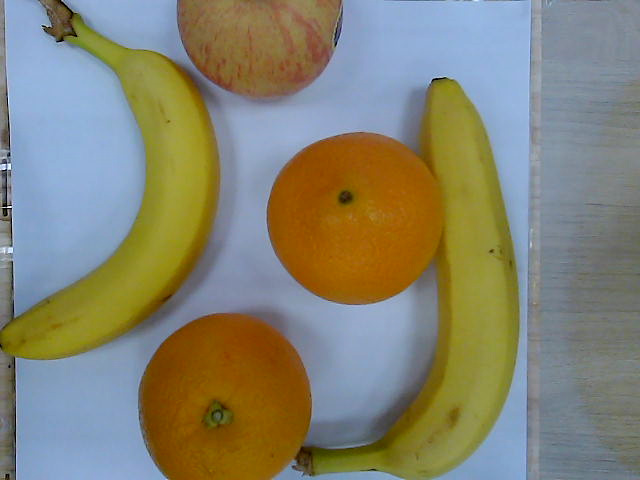fresh_apple: (176, 1, 341, 97)
fresh_banana: (1, 1, 219, 359), (379, 76, 521, 480)
fresh_orange: (267, 133, 442, 305), (136, 311, 313, 480)
